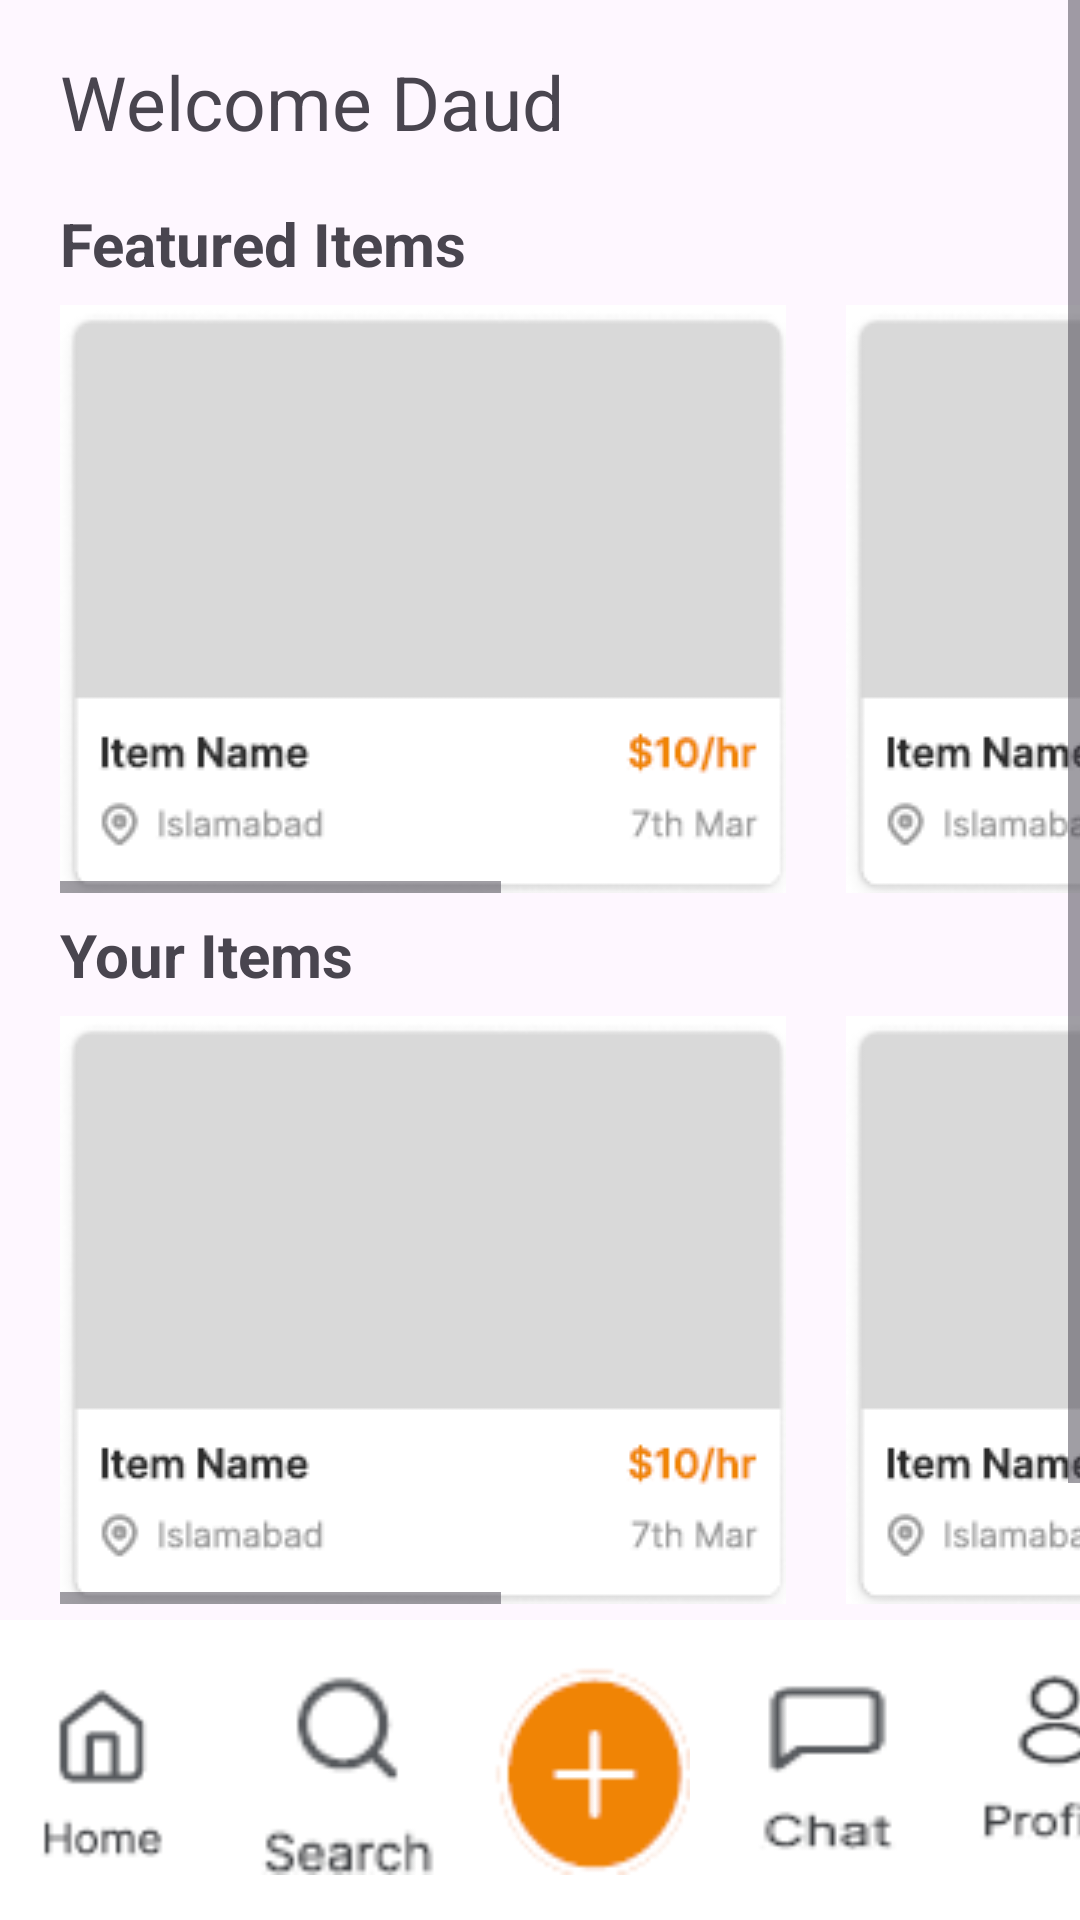

Icons on this 1080w x 1920h Android screen, each with its box as (x1, y1, x2, y2):
plus: (498, 1670, 690, 1875)
